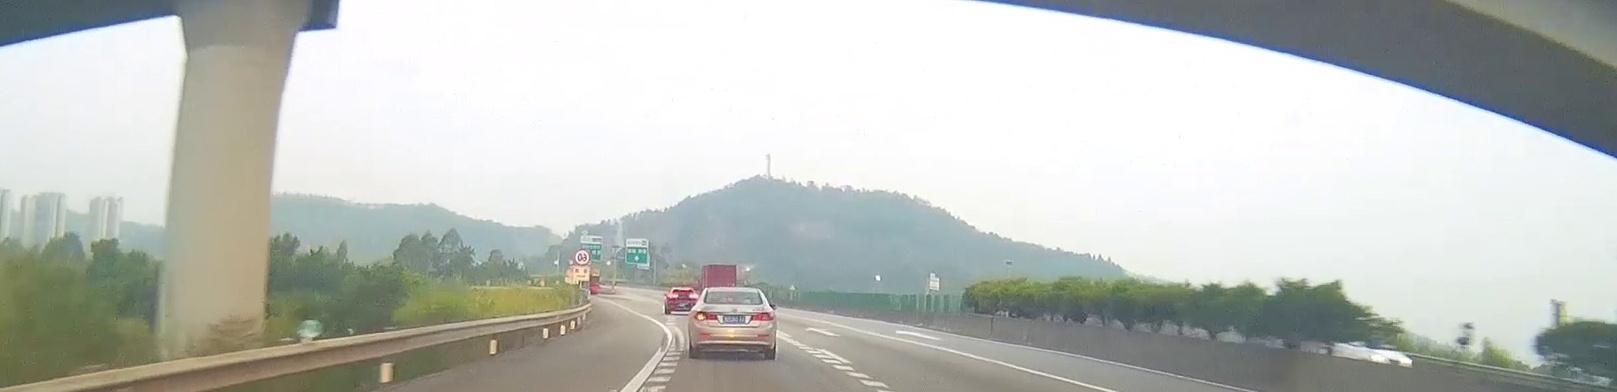L_light: (694, 311, 718, 321)
R_light: (750, 311, 774, 321)
T_light: (726, 291, 739, 293)
day-left: (688, 287, 777, 360)
